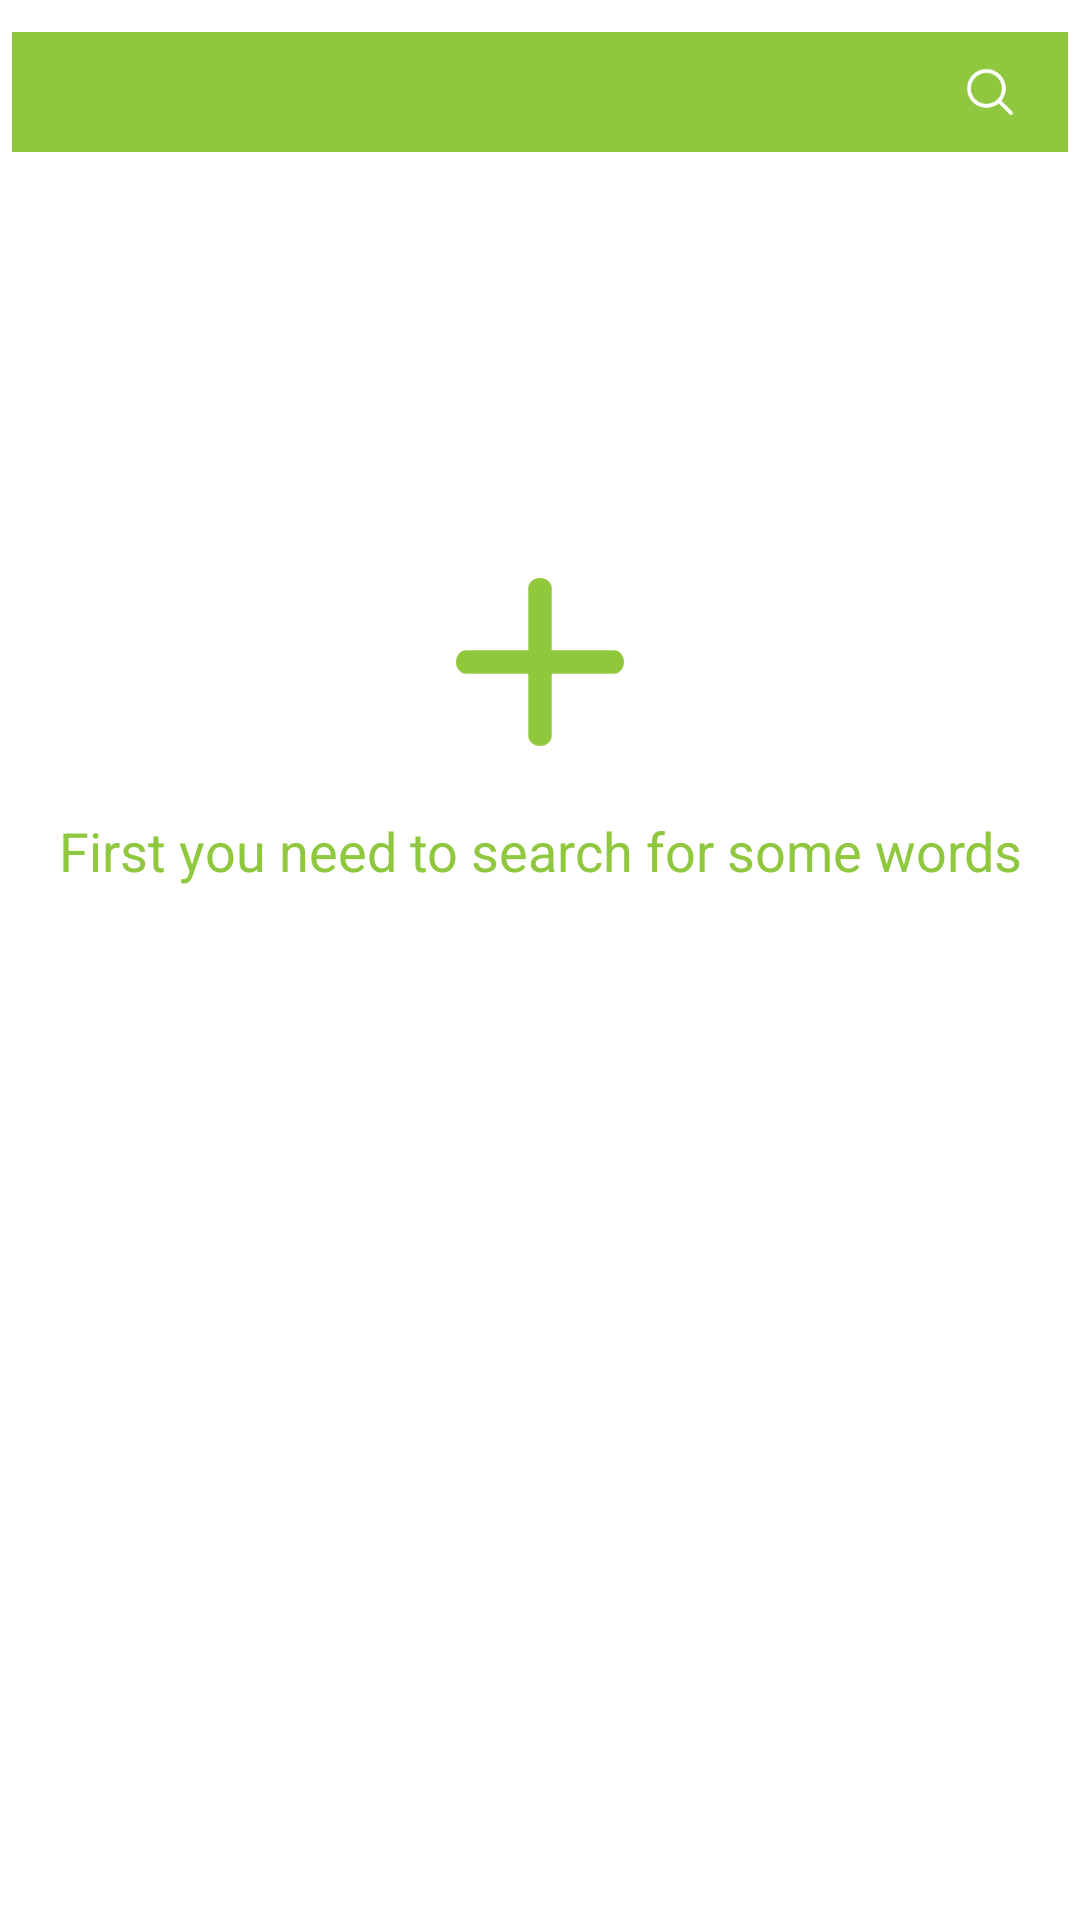

Where icons sit on this 1080x1920 app screen, as (x1, y1, x2, y2):
add: (456, 578, 624, 746)
